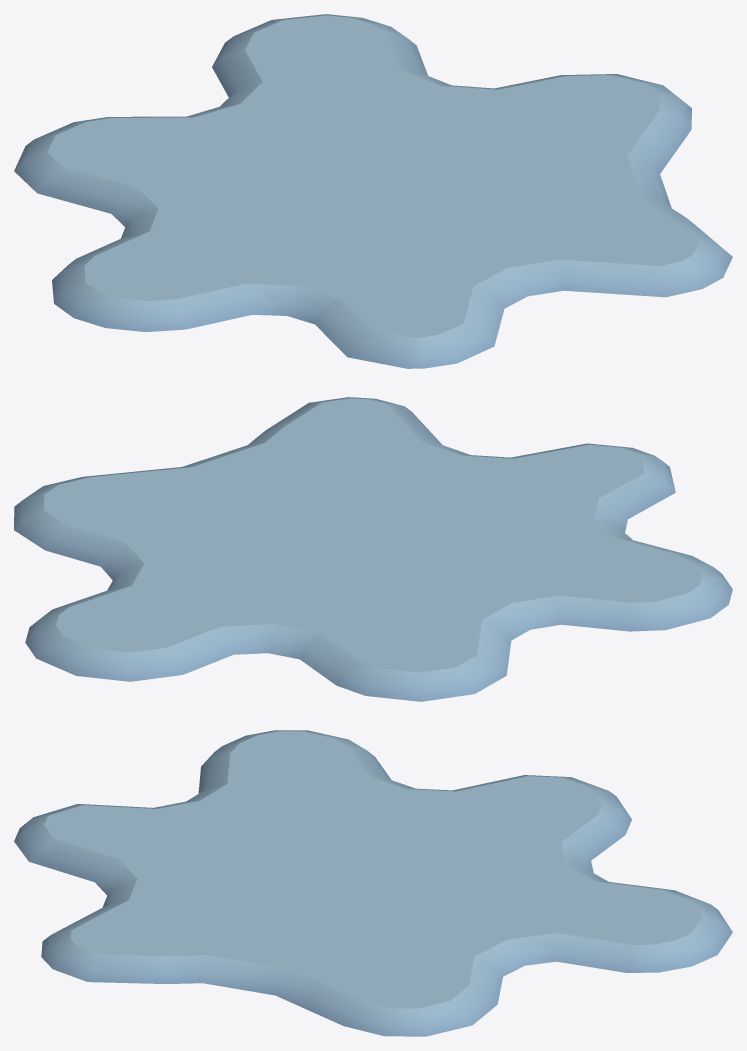
Rendered from puddle.glb.
3 renders of one model, top to bottom at view 1: azimuth 30°, elevation 25°; view 2: azimuth 150°, elevation 25°; view 3: azimuth 270°, elevation 25°, orthographic. The views are drawn at different scales.
Parts seen in each view (by area): view 1: puddle; view 2: puddle; view 3: puddle.
Part boxes in pixels (box(x1,y1,x2,y2)): puddle: box(14, 14, 732, 368); puddle: box(14, 397, 732, 701); puddle: box(14, 730, 732, 1036).
Bounding box in the file's own units: 0.8328 × 0.02 × 0.8367.
